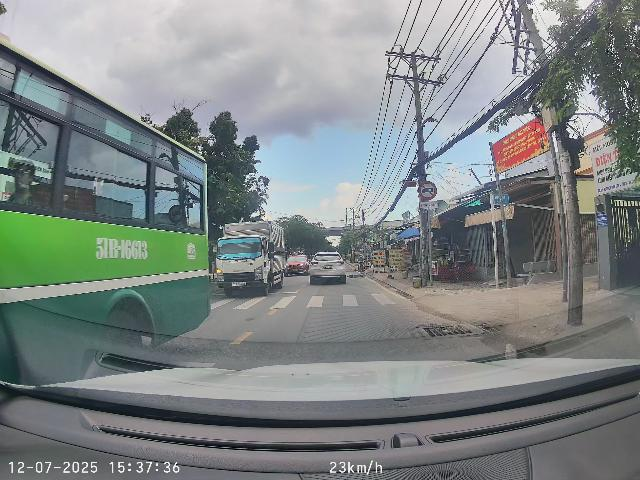106-cam-oto-tai: (418, 181, 437, 200)
